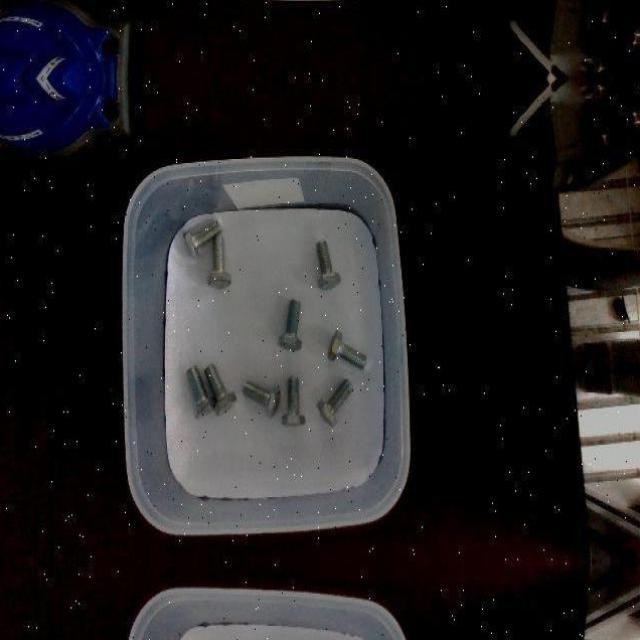screw: (204, 361, 238, 415), (317, 378, 353, 428), (183, 216, 224, 259), (187, 364, 216, 418), (327, 330, 366, 369), (242, 379, 280, 417), (316, 240, 341, 290), (279, 298, 303, 350), (208, 234, 230, 290), (282, 376, 306, 426)
